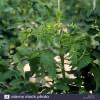Tomato leaf yellow virus: (58, 32, 78, 69), (9, 51, 32, 81), (40, 53, 57, 77), (36, 30, 45, 48)
